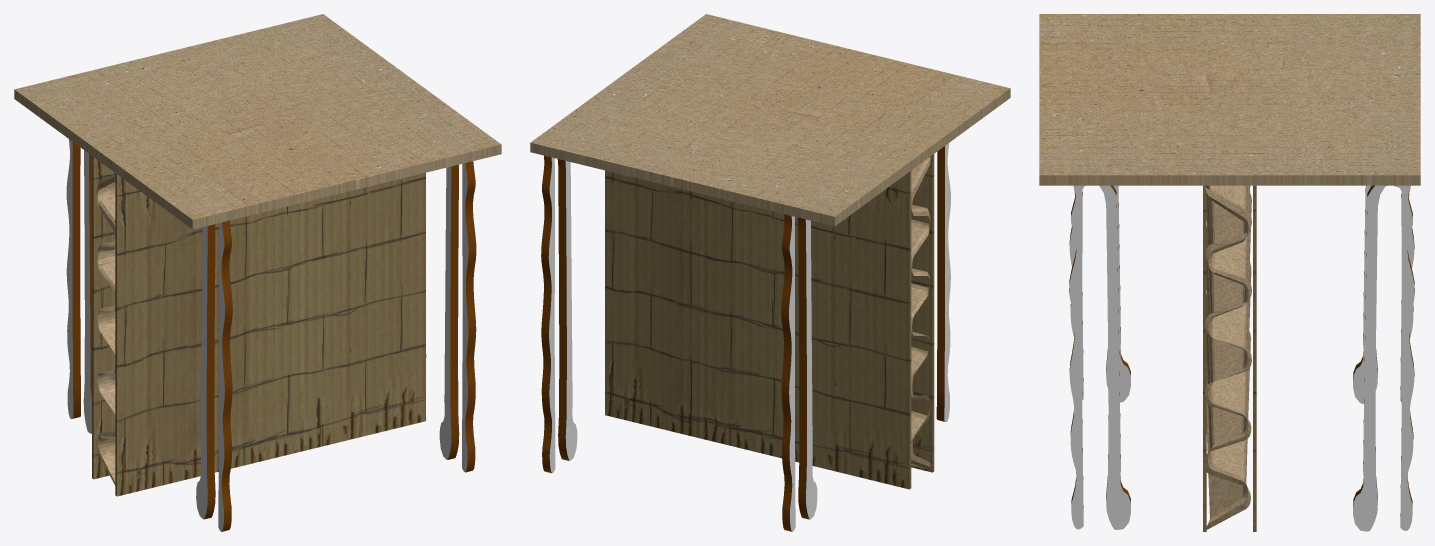
The model's file is wall_02_upgrade.fbx.
3 renders of one model, left to right at view 1: azimuth 30°, elevation 25°; view 2: azimuth 150°, elevation 25°; view 3: azimuth 270°, elevation 25°, orthographic. The views are drawn at different scales.
Parts seen in each view (by area): view 1: wall, Polygon, haarklip_3, Cap_1_2, raster, Cap_2_2, Cap_2, haarklip; view 2: wall, Polygon, haarklip, Cap_1, Cap_2, raster, haarklip_3, Cap_2_2; view 3: Polygon, raster, Cap_2, Cap_2_2, wall, Cap_1, Cap_1_2, haarklip, haarklip_3.
Part boxes in pixels (x1=…): wall: x1=92, y1=156, x2=425, y2=496; Polygon: x1=14, y1=14, x2=501, y2=229; haarklip_3: x1=204, y1=161, x2=476, y2=531; Cap_1_2: x1=439, y1=163, x2=468, y2=472; raster: x1=97, y1=174, x2=426, y2=485; Cap_2_2: x1=196, y1=222, x2=224, y2=531; Cap_2: x1=66, y1=139, x2=91, y2=433; haarklip: x1=72, y1=142, x2=91, y2=418; wall: x1=605, y1=154, x2=934, y2=489; Polygon: x1=530, y1=14, x2=1010, y2=226; haarklip: x1=541, y1=155, x2=809, y2=531; Cap_1: x1=548, y1=157, x2=577, y2=473; Cap_2: x1=789, y1=216, x2=817, y2=531; raster: x1=911, y1=157, x2=930, y2=469; haarklip_3: x1=936, y1=146, x2=944, y2=421; Cap_2_2: x1=944, y1=143, x2=950, y2=422; Polygon: x1=1039, y1=14, x2=1420, y2=185; raster: x1=1204, y1=185, x2=1251, y2=530; Cap_2: x1=1353, y1=185, x2=1414, y2=531; Cap_2_2: x1=1069, y1=185, x2=1130, y2=529; wall: x1=1203, y1=185, x2=1256, y2=531; Cap_1: x1=1353, y1=185, x2=1414, y2=403; Cap_1_2: x1=1069, y1=185, x2=1130, y2=402; haarklip: x1=1353, y1=185, x2=1414, y2=516; haarklip_3: x1=1069, y1=185, x2=1130, y2=508.
Bounding box in the file's own units: 262 × 271 × 260.
4 materials, 3 textured.
